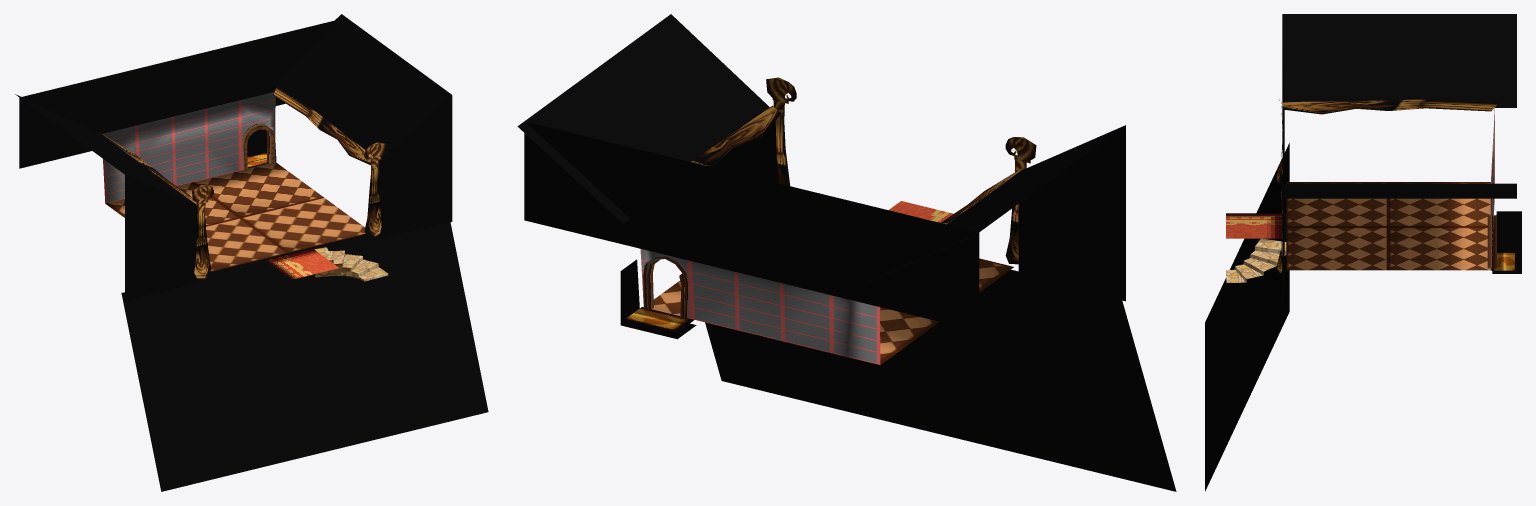
3 renders of one model, left to right at view 1: azimuth 30°, elevation 25°; view 2: azimuth 150°, elevation 25°; view 3: azimuth 270°, elevation 25°, orthographic. The views are drawn at different scales.
Parts seen in each view (by area): view 1: sh_pc_m02; view 2: sh_pc_m02; view 3: sh_pc_m02.
Part boxes in pixels (x1,y1,x2,y2): sh_pc_m02: [15, 14, 488, 491]; sh_pc_m02: [517, 14, 1176, 491]; sh_pc_m02: [1205, 14, 1521, 491].
Size of the model in its own units: 5 by 4.24 by 3.95.
Materials: 10 (10 with a texture image).
